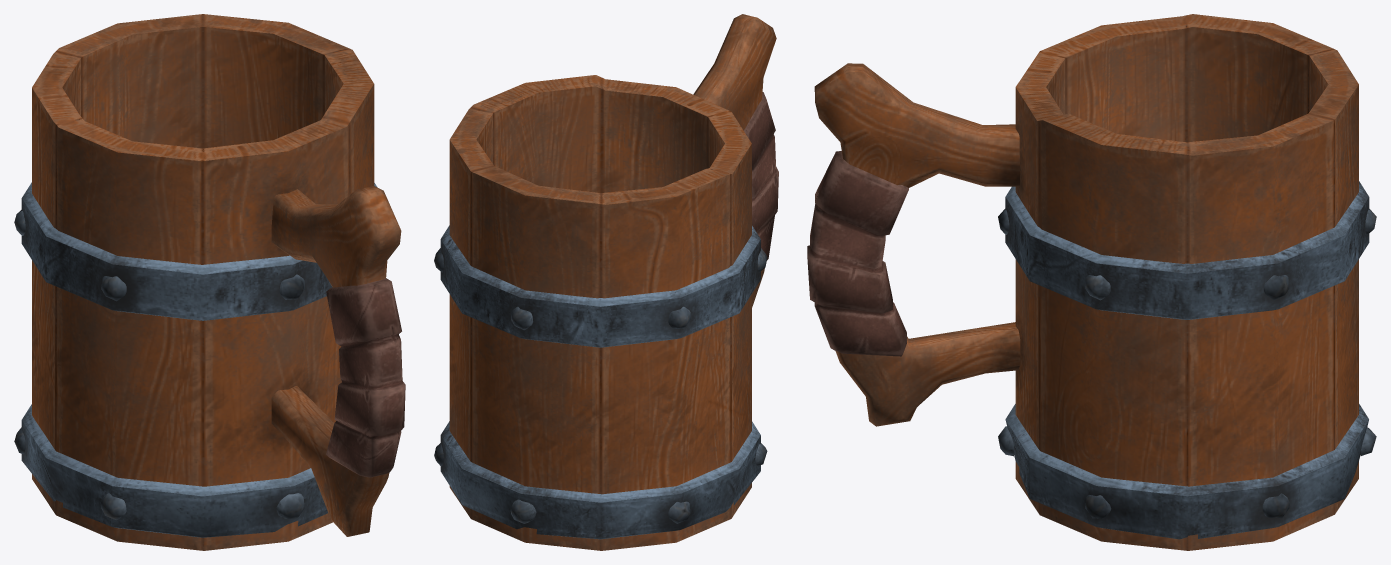
The model's file is WindCup.fbx.
3 renders of one model, left to right at view 1: azimuth 30°, elevation 25°; view 2: azimuth 150°, elevation 25°; view 3: azimuth 270°, elevation 25°, orthographic. The views are drawn at different scales.
Parts seen in each view (by area): view 1: body_low, rem_low, handle_low, winding_low, rivets_low; view 2: body_low, rem_low, handle_low, winding_low, rivets_low; view 3: body_low, rem_low, handle_low, winding_low, rivets_low.
Part boxes in pixels (<box>): body_low: <box>32,14,374,550</box>; rem_low: <box>21,182,377,537</box>; handle_low: <box>271,186,401,536</box>; winding_low: <box>326,278,405,477</box>; rivets_low: <box>14,210,304,520</box>; body_low: <box>449,75,751,550</box>; rem_low: <box>440,225,760,539</box>; handle_low: <box>693,14,776,307</box>; winding_low: <box>744,92,778,260</box>; rivets_low: <box>434,248,767,523</box>; body_low: <box>1015,14,1358,550</box>; rem_low: <box>1005,181,1369,539</box>; handle_low: <box>814,63,1020,426</box>; winding_low: <box>807,151,908,356</box>; rivets_low: <box>998,209,1376,518</box>.
Bounding box in the file's own units: 84.08 × 105 × 132.
